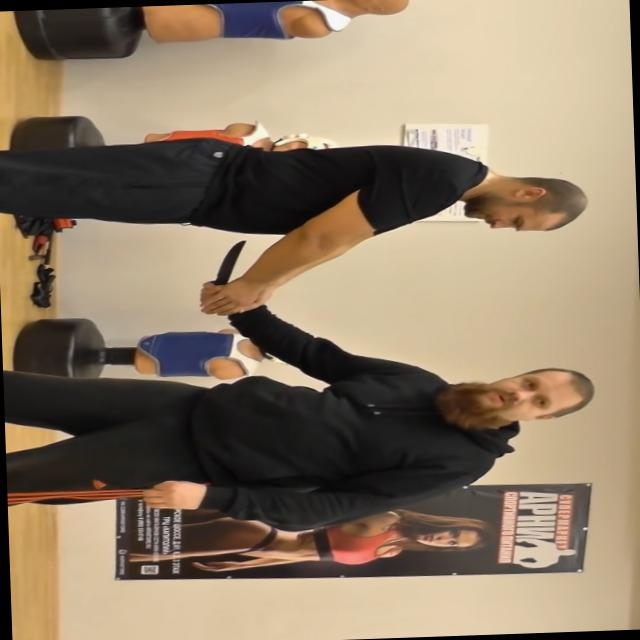knife: (194, 238, 254, 318)
